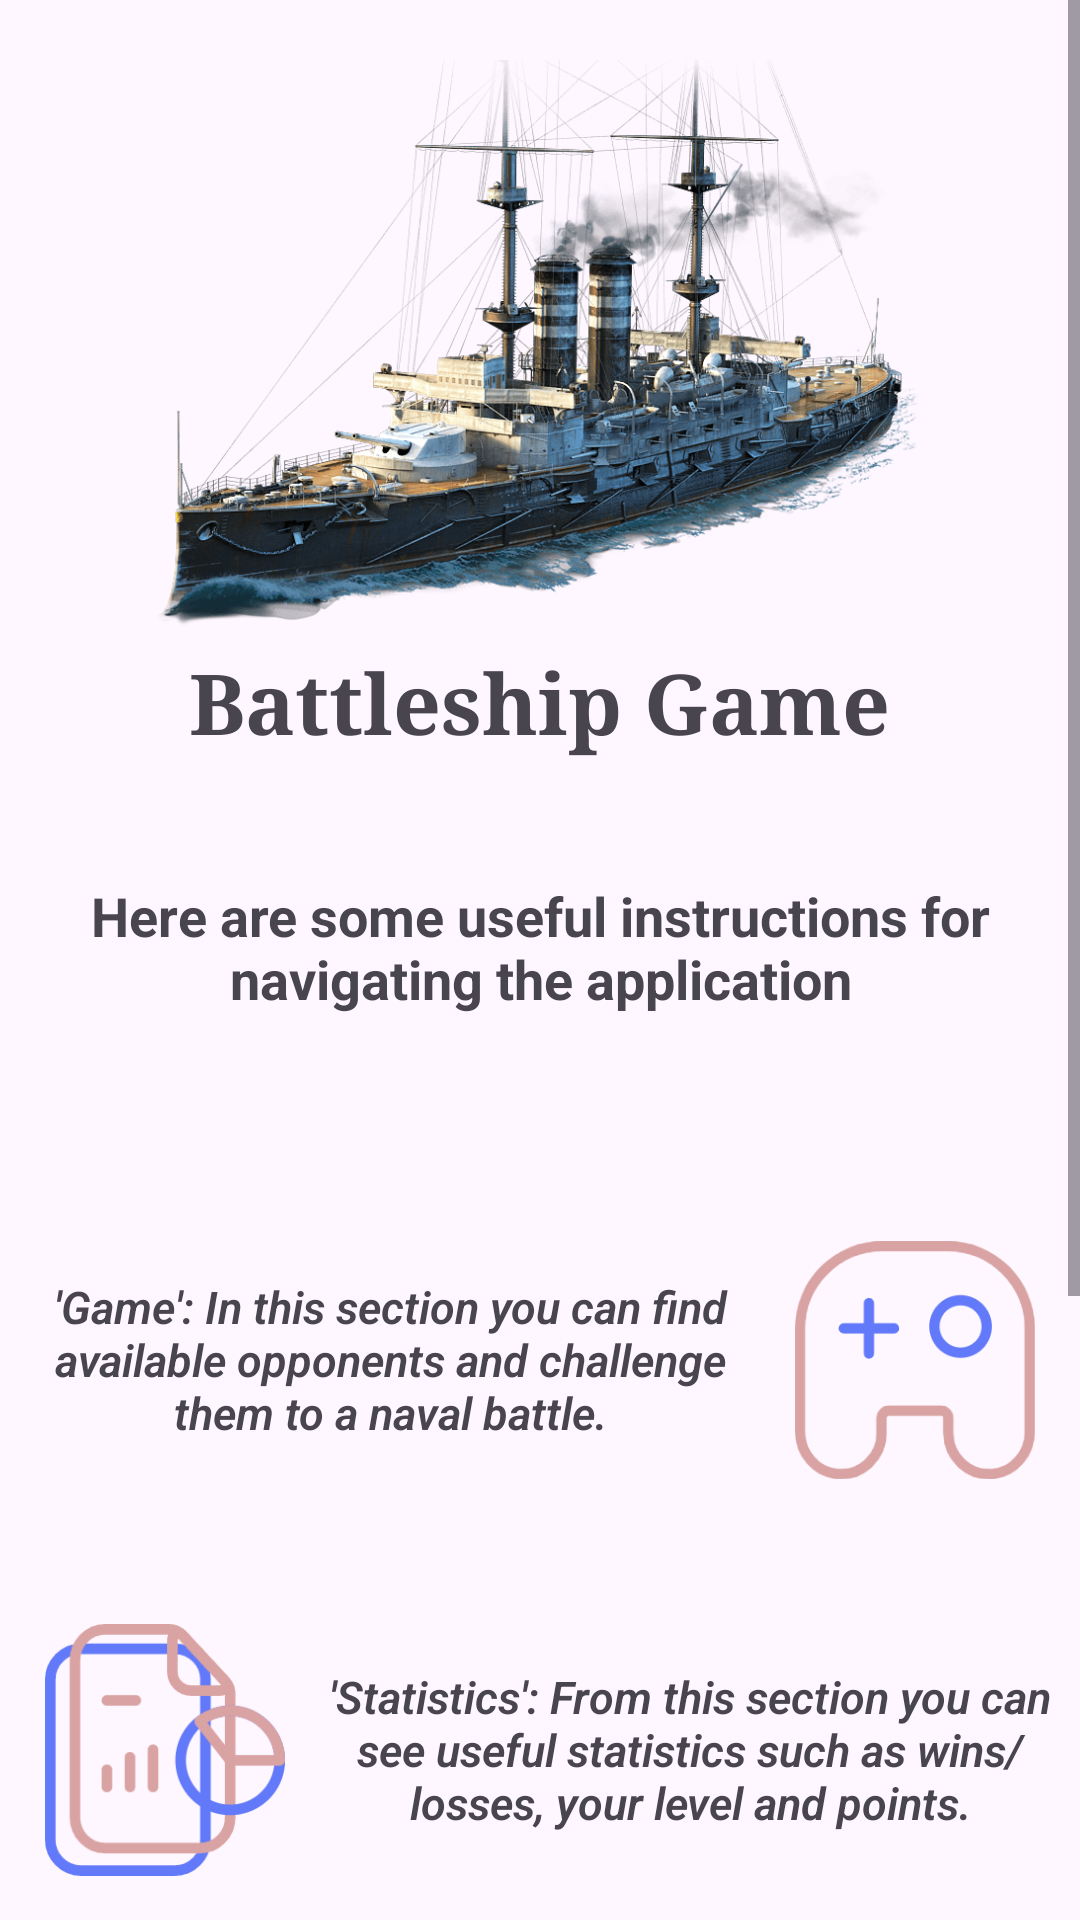

Locate icon controls on the screen. Image size 1080w x 1920h, boxes as [x1, y1, x2, y2].
game home: [795, 1241, 1035, 1479]
statistics home: [45, 1624, 285, 1876]
